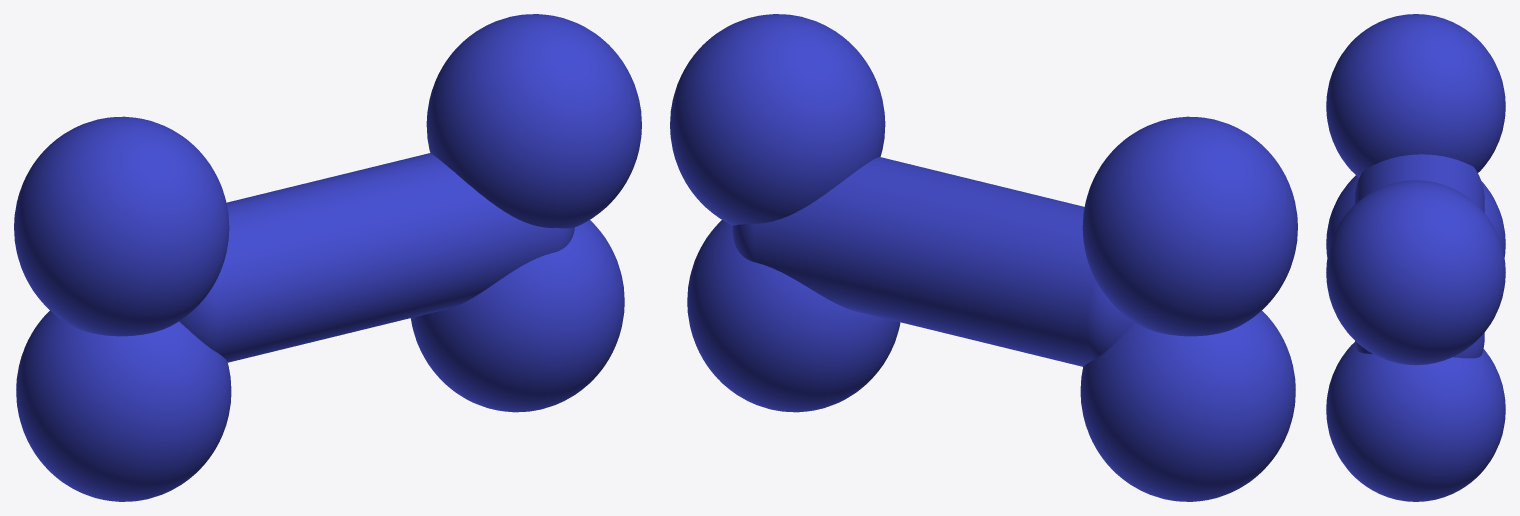
The model's file is BoneToy.fbx.
3 renders of one model, left to right at view 1: azimuth 30°, elevation 25°; view 2: azimuth 150°, elevation 25°; view 3: azimuth 270°, elevation 25°, orthographic. The views are drawn at different scales.
Visible parts, largest first — view 1: root (×5); view 2: root (×5); view 3: root (×5).
Part boxes in pixels (<box>): root (×5): <box>14,14,641,501</box>; root (×5): <box>670,14,1297,501</box>; root (×5): <box>1326,14,1505,501</box>.
Size of the model in its own units: 0.2632 by 0.1573 by 0.0819.
